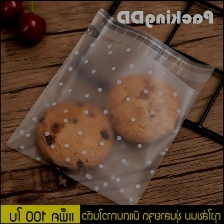snack: (0, 2, 222, 205)
